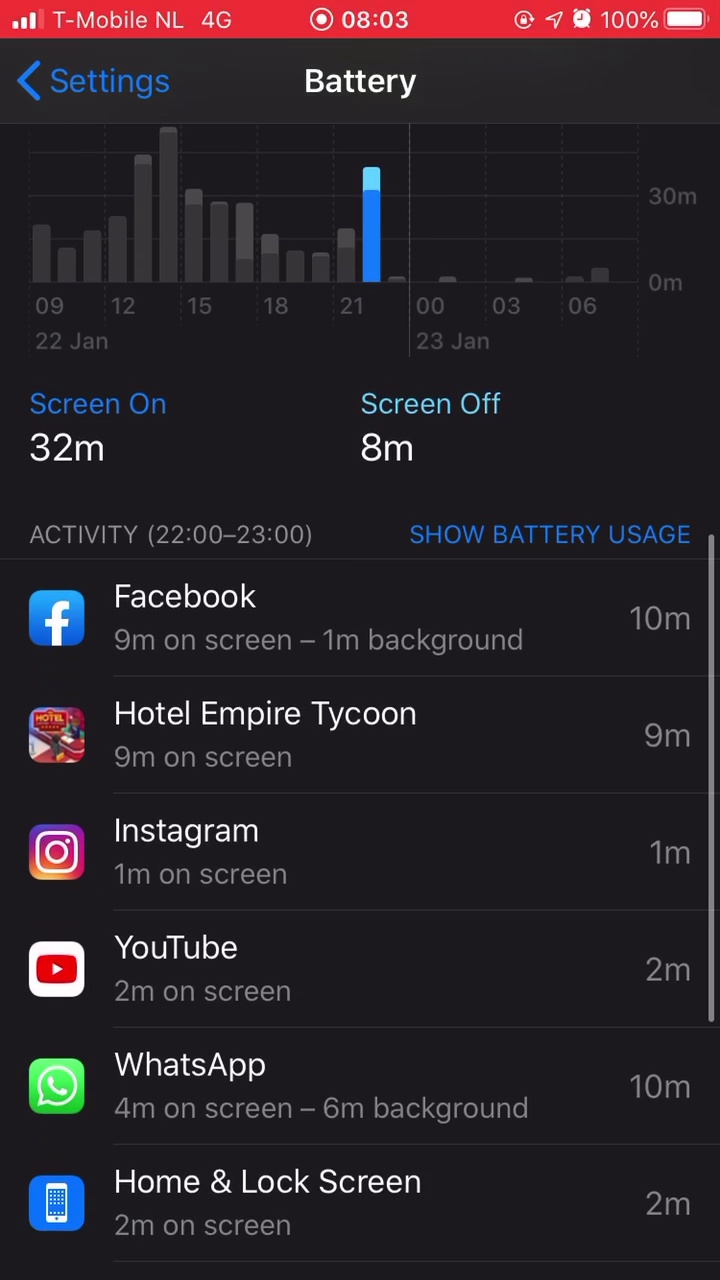activity: (21, 500, 351, 569)
app: (20, 572, 698, 664), (20, 683, 698, 775), (22, 805, 700, 897), (17, 923, 695, 1015), (20, 1040, 698, 1132), (23, 1162, 701, 1254)
